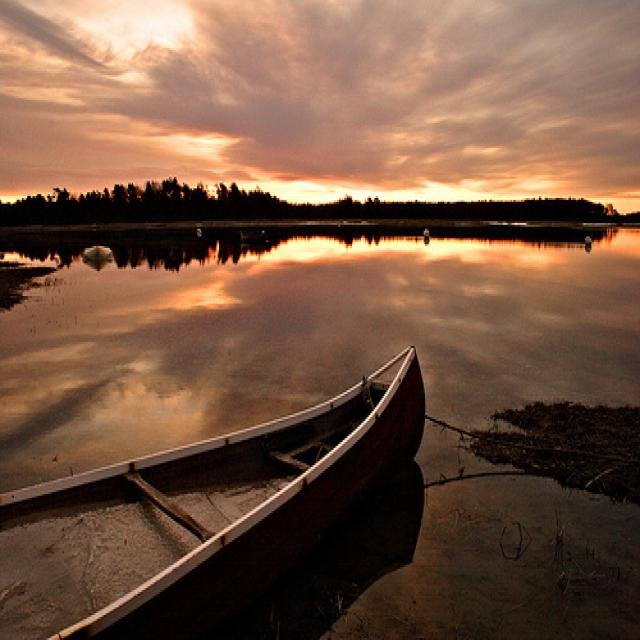Boat: (0, 323, 433, 640)
